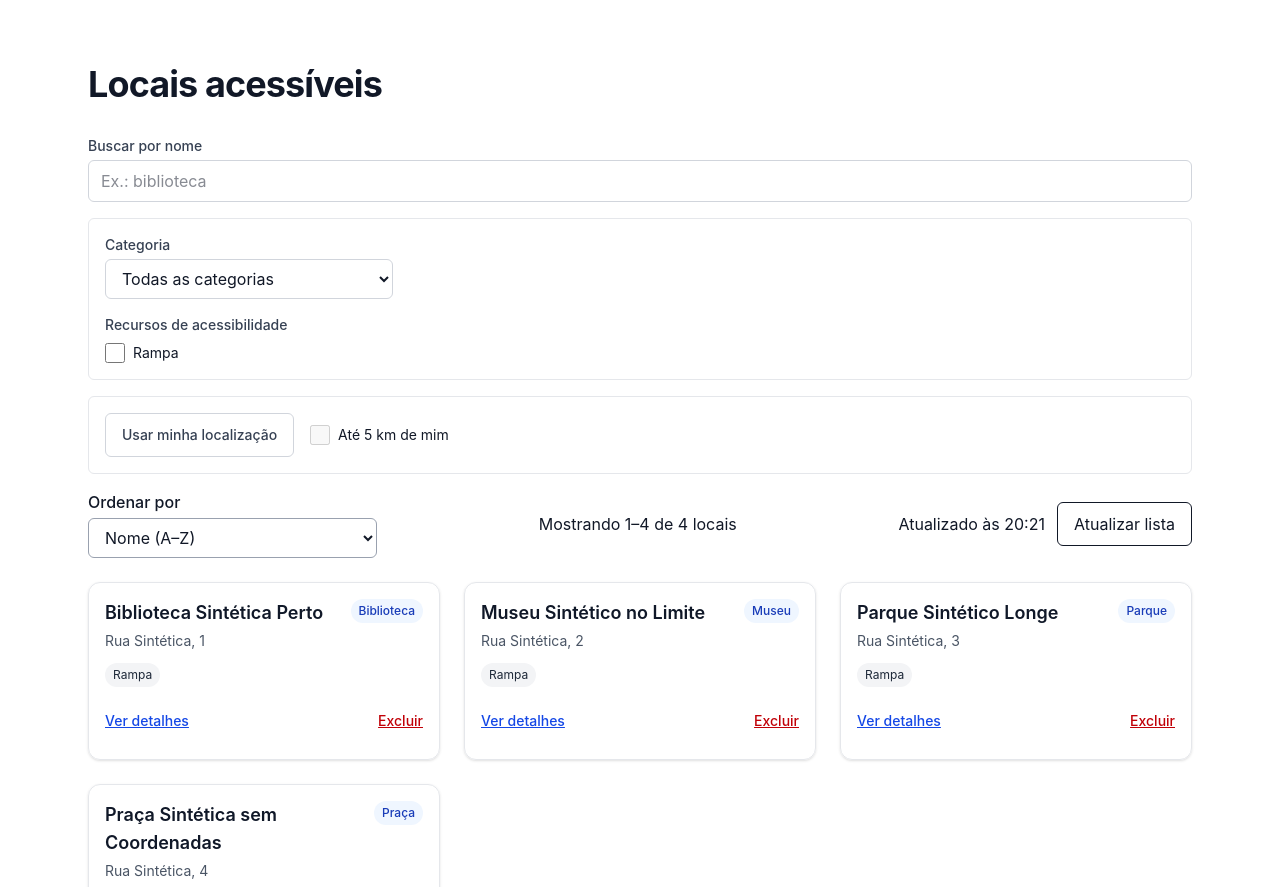
it: Locais: filtro "Até 5 km de mim" › mostra os locais até 5 km, inclusive, e tira os mais longe e os sem coordenadas
Expected: the text "Mostrando 1–4 de 4 locais" is shown, [539,512,737,536]
Click the button "Usar minha localização".
click(200, 435)  # box [105,413,294,457]
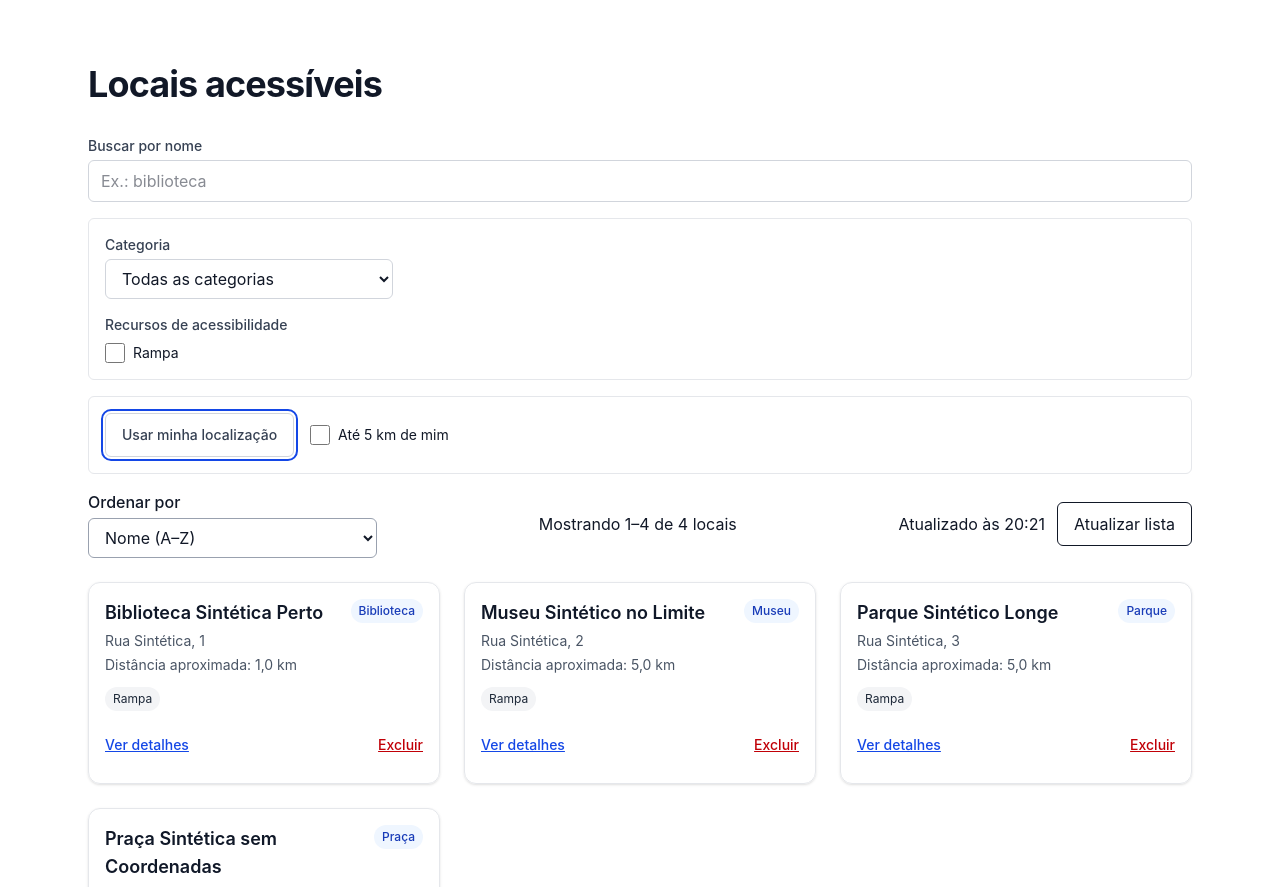
Click the checkbox labelled "Até 5 km de mim".
click(320, 435)  # box [310,425,330,445]
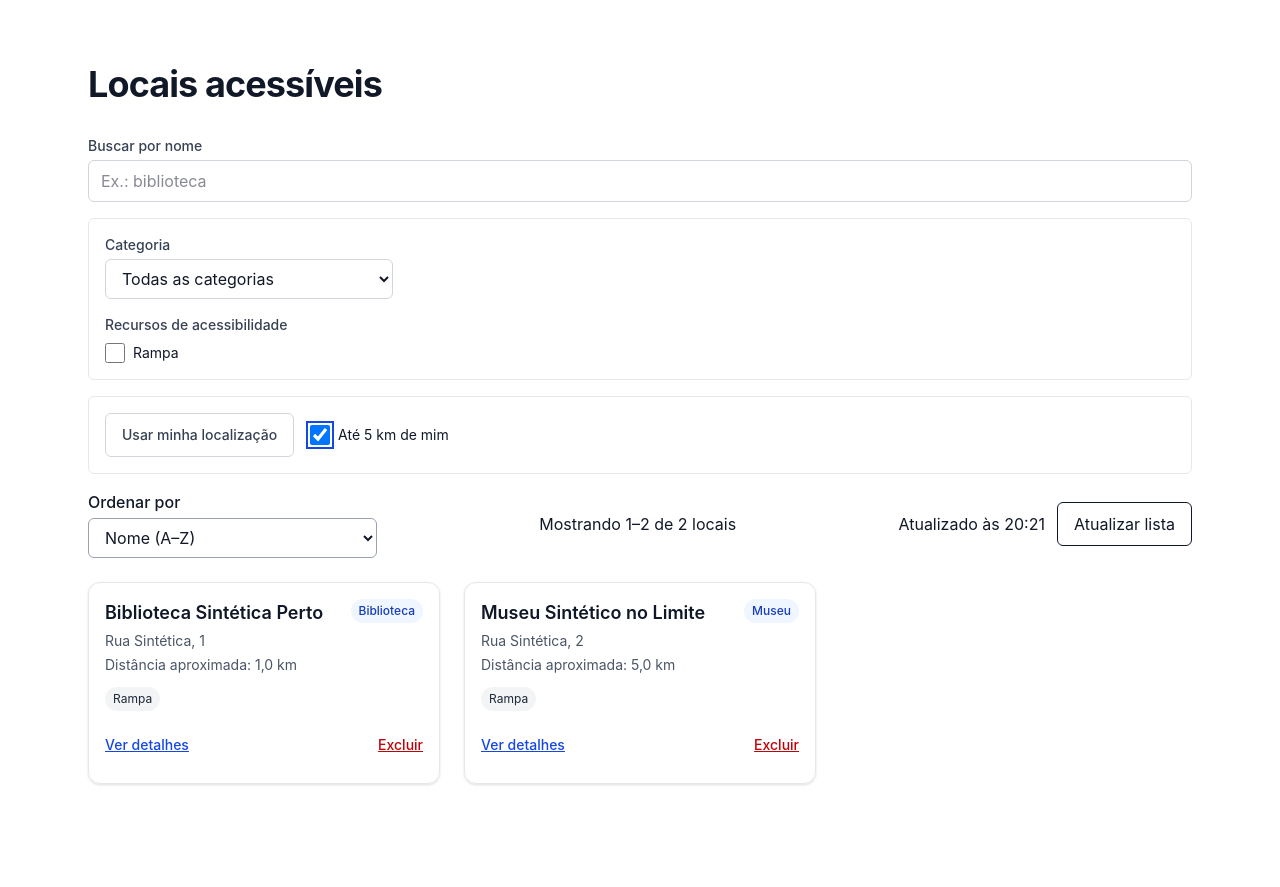
Result: the text "Mostrando 1–2 de 2 locais" is shown at [539,512,736,536]
